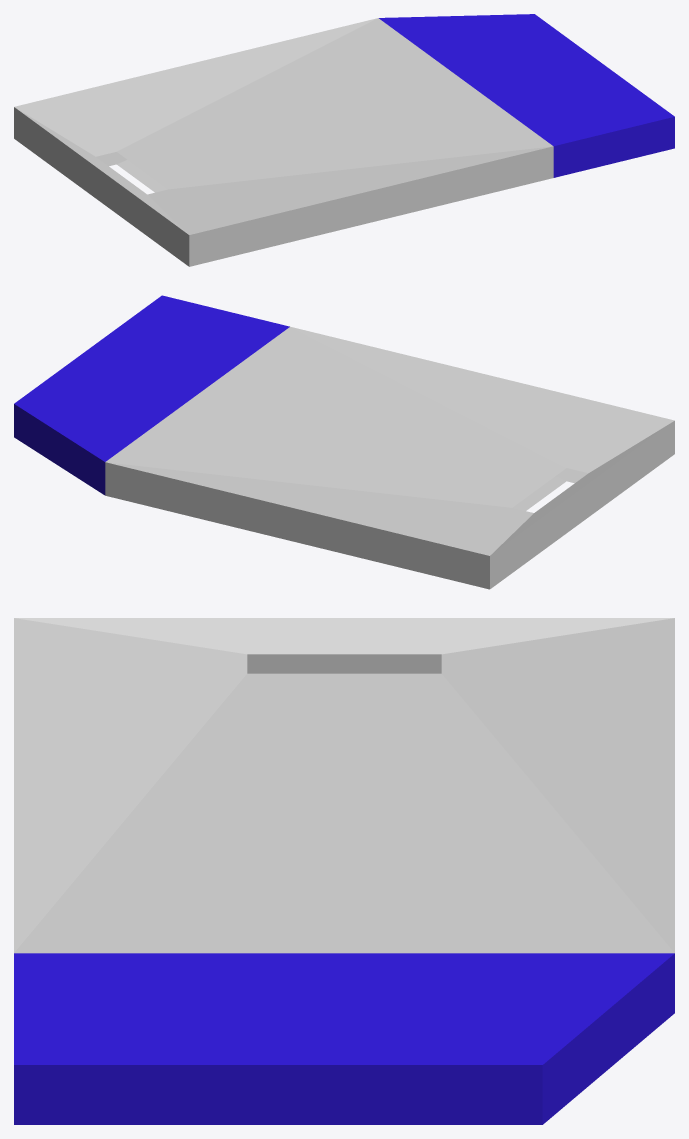
Rendered from PraedatumKeyCardBlue.glb.
3 views of the same model, one above another, from view 1: azimuth 30°, elevation 25°; view 2: azimuth 150°, elevation 25°; view 3: azimuth 270°, elevation 25° (orthographic). The views are drawn at different scales.
Visible parts, largest first — view 1: Key; view 2: Key; view 3: Key.
Part boxes in pixels (box(x1,y1,x2,y2)): Key: box(14, 14, 674, 266); Key: box(14, 295, 674, 589); Key: box(14, 618, 674, 1124).
Size of the model in its own units: 1.6 by 0.1 by 1.
